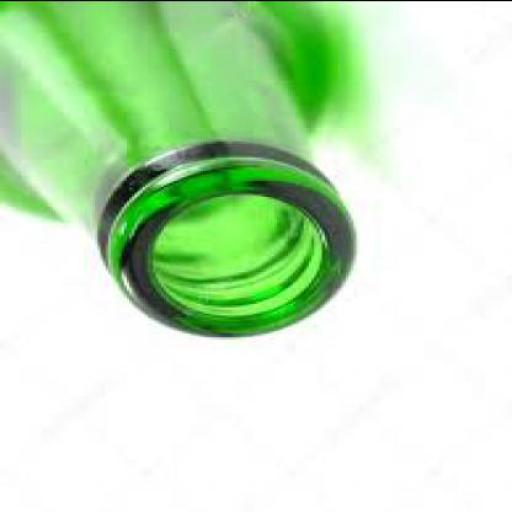glass: (0, 1, 356, 335)
